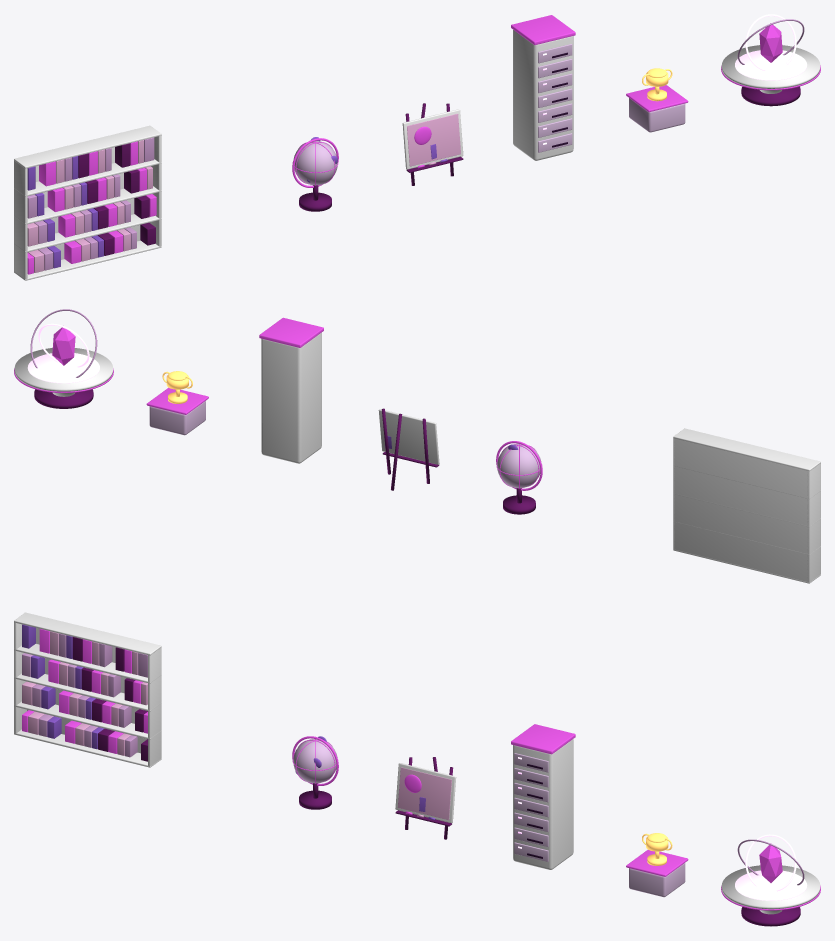
Rendered from furniture_b.glb.
3 renders of one model, top to bottom at view 1: azimuth 30°, elevation 25°; view 2: azimuth 150°, elevation 25°; view 3: azimuth 330°, elevation 25°, orthographic.
Parts seen in each view (by area): view 1: RackBody, PaintBG, Board4, HoloTop, HoloDisc, ShelfL, GlobeSphere, Plinth, RackFrame, Board3, Board2, Board0 (+8 smaller); view 2: ShelfBack, RackBody, EaselCanvas, Board4, HoloTop, HoloDisc, GlobeSphere, ShelfL, Plinth, RackFrame, HoloBase, PlinthTop (+2 smaller); view 3: RackBody, PaintBG, Board4, HoloTop, HoloDisc, ShelfR, GlobeSphere, RackFrame, Plinth, Board3, Board2, Board0 (+7 smaller).
Part boxes in pixels (x1=…): RackBody: x1=513, y1=30, x2=573, y2=160; PaintBG: x1=407, y1=113, x2=460, y2=166; Board4: x1=14, y1=125, x2=161, y2=168; HoloTop: x1=721, y1=45, x2=820, y2=88; HoloDisc: x1=735, y1=50, x2=807, y2=80; ShelfL: x1=14, y1=161, x2=27, y2=279; GlobeSphere: x1=293, y1=141, x2=337, y2=185; Plinth: x1=629, y1=98, x2=685, y2=132; RackFrame: x1=511, y1=15, x2=575, y2=44; Board3: x1=14, y1=159, x2=161, y2=196; Board2: x1=14, y1=186, x2=161, y2=224; Board0: x1=14, y1=240, x2=161, y2=280; ShelfBack: x1=673, y1=438, x2=810, y2=583; RackBody: x1=261, y1=332, x2=321, y2=463; EaselCanvas: x1=378, y1=409, x2=439, y2=464; Board4: x1=673, y1=428, x2=820, y2=471; HoloTop: x1=14, y1=348, x2=113, y2=391; HoloDisc: x1=27, y1=353, x2=99, y2=383; GlobeSphere: x1=497, y1=443, x2=541, y2=488; ShelfL: x1=807, y1=463, x2=820, y2=581; Plinth: x1=149, y1=401, x2=205, y2=435; RackFrame: x1=259, y1=317, x2=323, y2=347; HoloBase: x1=34, y1=389, x2=93, y2=408; PlinthTop: x1=146, y1=387, x2=208, y2=414; RackBody: x1=513, y1=739, x2=573, y2=869; PaintBG: x1=397, y1=767, x2=451, y2=819; Board4: x1=14, y1=612, x2=161, y2=655; HoloTop: x1=721, y1=865, x2=820, y2=909; HoloDisc: x1=735, y1=870, x2=807, y2=900; ShelfR: x1=148, y1=648, x2=161, y2=766; GlobeSphere: x1=293, y1=739, x2=337, y2=783; RackFrame: x1=511, y1=724, x2=575, y2=754; Plinth: x1=629, y1=863, x2=685, y2=897; Board3: x1=14, y1=644, x2=161, y2=683; Board2: x1=14, y1=673, x2=161, y2=711; Board0: x1=14, y1=729, x2=161, y2=767.
Size of the model in its own units: 27.92 by 4.11 by 3.04.
